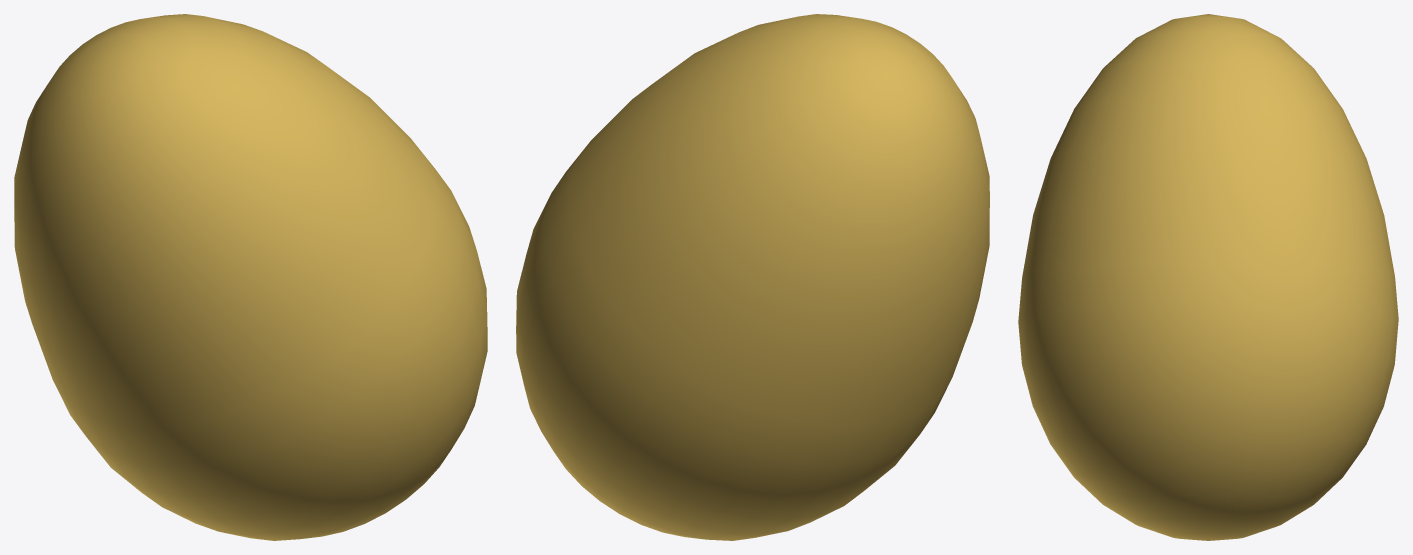
Rendered from GoldEgg.fbx.
3 renders of one model, left to right at view 1: azimuth 30°, elevation 25°; view 2: azimuth 150°, elevation 25°; view 3: azimuth 270°, elevation 25°, orthographic. The views are drawn at different scales.
Parts seen in each view (by area): view 1: Sphere004; view 2: Sphere004; view 3: Sphere004.
Part boxes in pixels (<box>): Sphere004: <box>14,14,487,540</box>; Sphere004: <box>516,14,989,540</box>; Sphere004: <box>1018,14,1398,540</box>.
Bounding box in the file's own units: 54.73 × 64.37 × 49.51.
